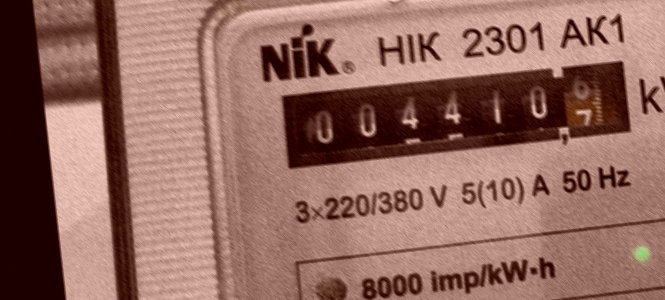0: (310, 107, 335, 148), (525, 84, 549, 122), (355, 101, 377, 141)
1: (486, 89, 504, 128)
4: (438, 89, 464, 130), (395, 93, 421, 133)
6: (571, 75, 591, 102)
7: (572, 108, 593, 129)
screen: (267, 45, 644, 184)
